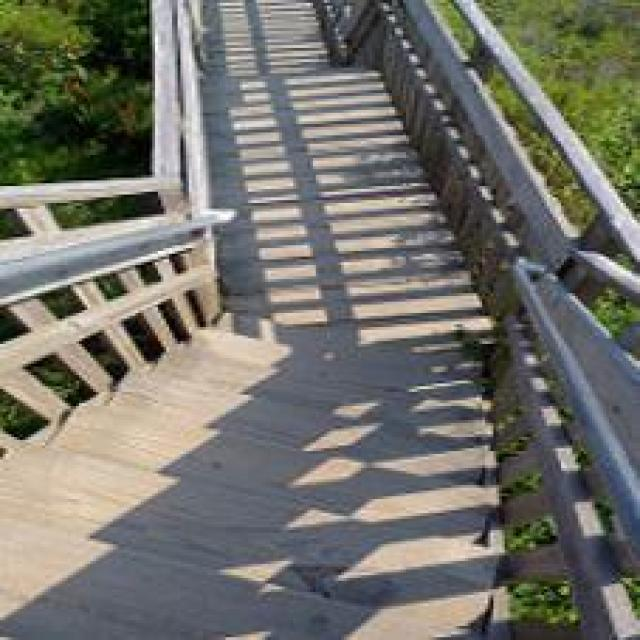downstair: (18, 393, 401, 621)
